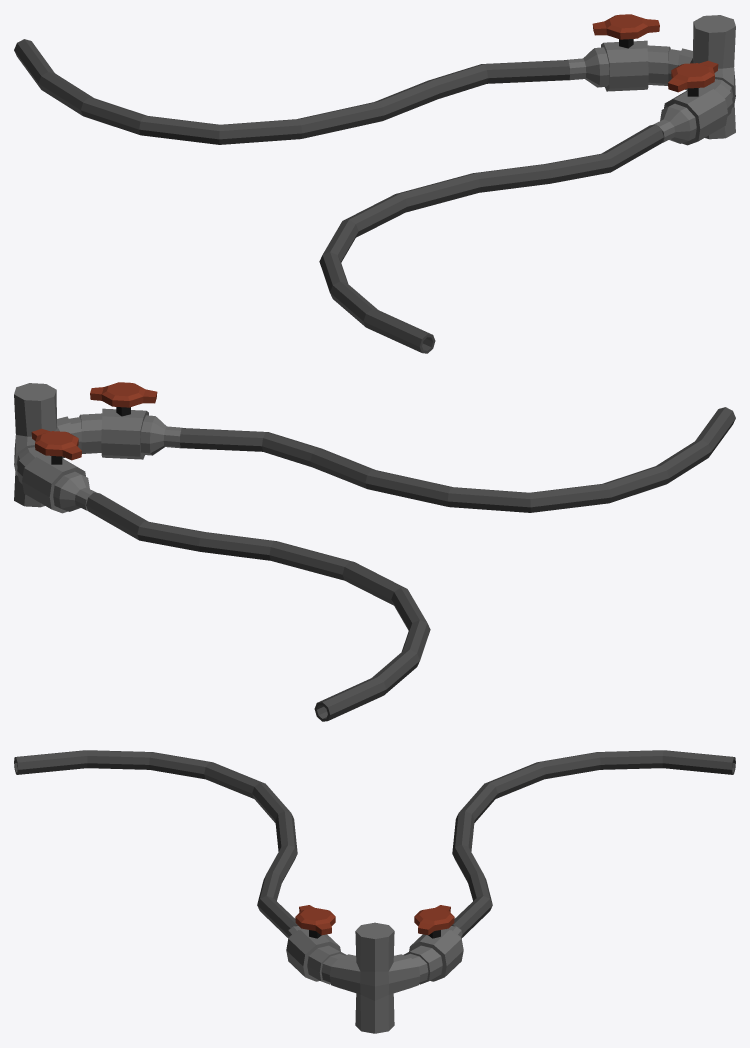
Rendered from gas_tube_new.fbx.
3 views of the same model, one above another, from view 1: azimuth 30°, elevation 25°; view 2: azimuth 150°, elevation 25°; view 3: azimuth 270°, elevation 25° (orthographic). The views are drawn at different scales.
Visible parts, largest first — view 1: gas_tubes, gas_tube_main, gas_knob; view 2: gas_tubes, gas_tube_main, gas_knob; view 3: gas_tubes, gas_tube_main, gas_knob.
Boxes of the visible parts, left/top/right/bottom form: gas_tubes: left=14, top=39, right=663, bottom=353; gas_tube_main: left=567, top=15, right=735, bottom=145; gas_knob: left=592, top=14, right=718, bottom=92; gas_tubes: left=86, top=407, right=735, bottom=721; gas_tube_main: left=14, top=383, right=182, bottom=513; gas_knob: left=31, top=382, right=157, bottom=460; gas_tubes: left=14, top=750, right=735, bottom=937; gas_tube_main: left=286, top=922, right=463, bottom=1033; gas_knob: left=295, top=905, right=454, bottom=935.
Size of the model in its own units: 622 by 119 by 821.
